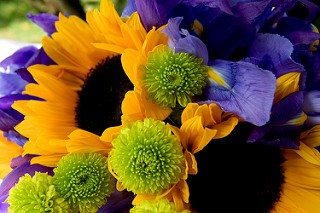flower: (10, 0, 178, 174), (125, 70, 320, 212)
